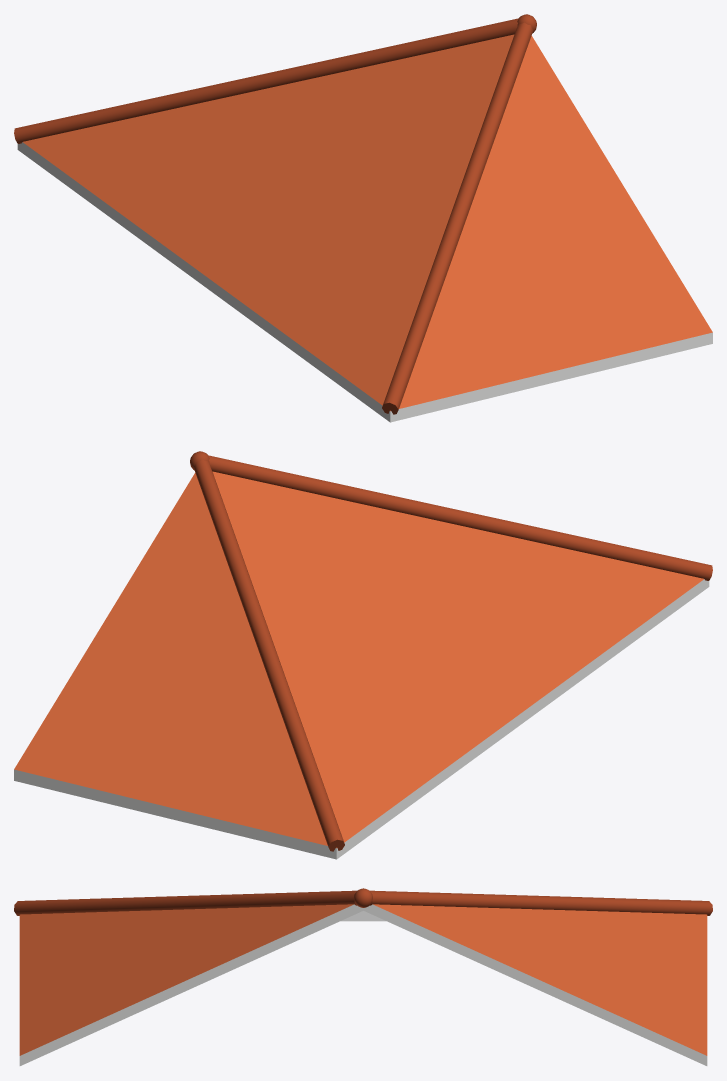
File: telhado_quatro_aguas_ponta_v6_i50.glb
3 views of the same model, one above another, from view 1: azimuth 30°, elevation 25°; view 2: azimuth 150°, elevation 25°; view 3: azimuth 270°, elevation 25° (orthographic). The views are drawn at different scales.
Parts seen in each view (by area): view 1: telhado_quatro_aguas_ponta_v6_i50; view 2: telhado_quatro_aguas_ponta_v6_i50; view 3: telhado_quatro_aguas_ponta_v6_i50.
Boxes of the visible parts, bbox=[...] form: telhado_quatro_aguas_ponta_v6_i50: bbox=[14, 14, 712, 422]; telhado_quatro_aguas_ponta_v6_i50: bbox=[14, 451, 712, 859]; telhado_quatro_aguas_ponta_v6_i50: bbox=[14, 888, 712, 1065].
Size of the model in its own units: 3.13 by 1.71 by 6.1.
